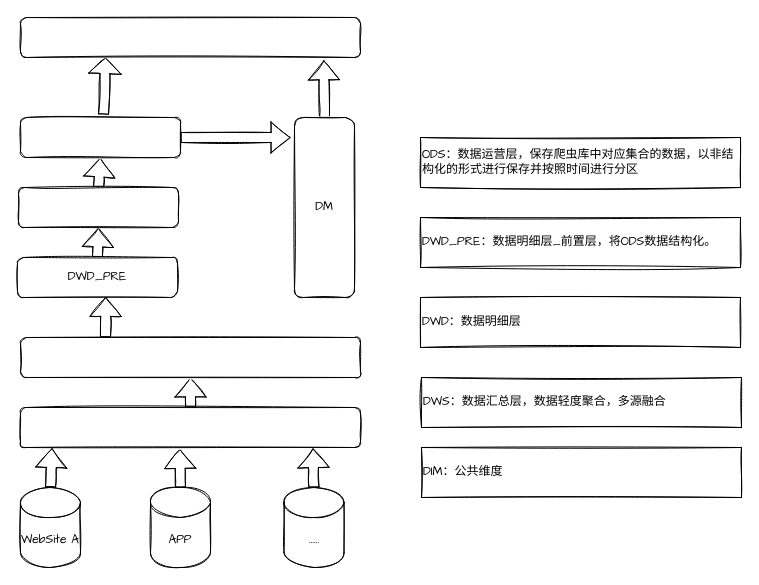
This 759x585 diagram has some shape labels left out. Here are the shapes that lost their labels. From the top down, the box of each, then its label:
(20, 16, 360, 58): DSP
(20, 116, 180, 158): DIM
(18, 186, 178, 228): DWD
(20, 336, 360, 378): ODS
(20, 406, 360, 448): Mongo爬虫
